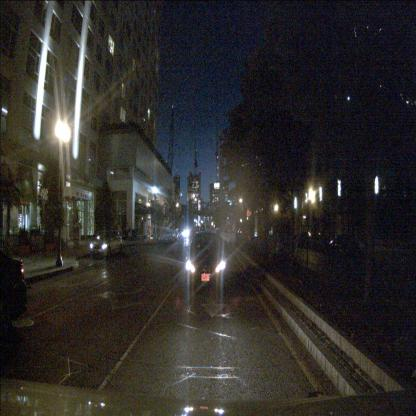human-pedestrian-adult: (126, 222, 130, 239)
vehicle-car: (0, 249, 28, 332), (188, 231, 226, 289), (88, 229, 124, 259), (296, 230, 312, 247), (161, 228, 176, 243)
